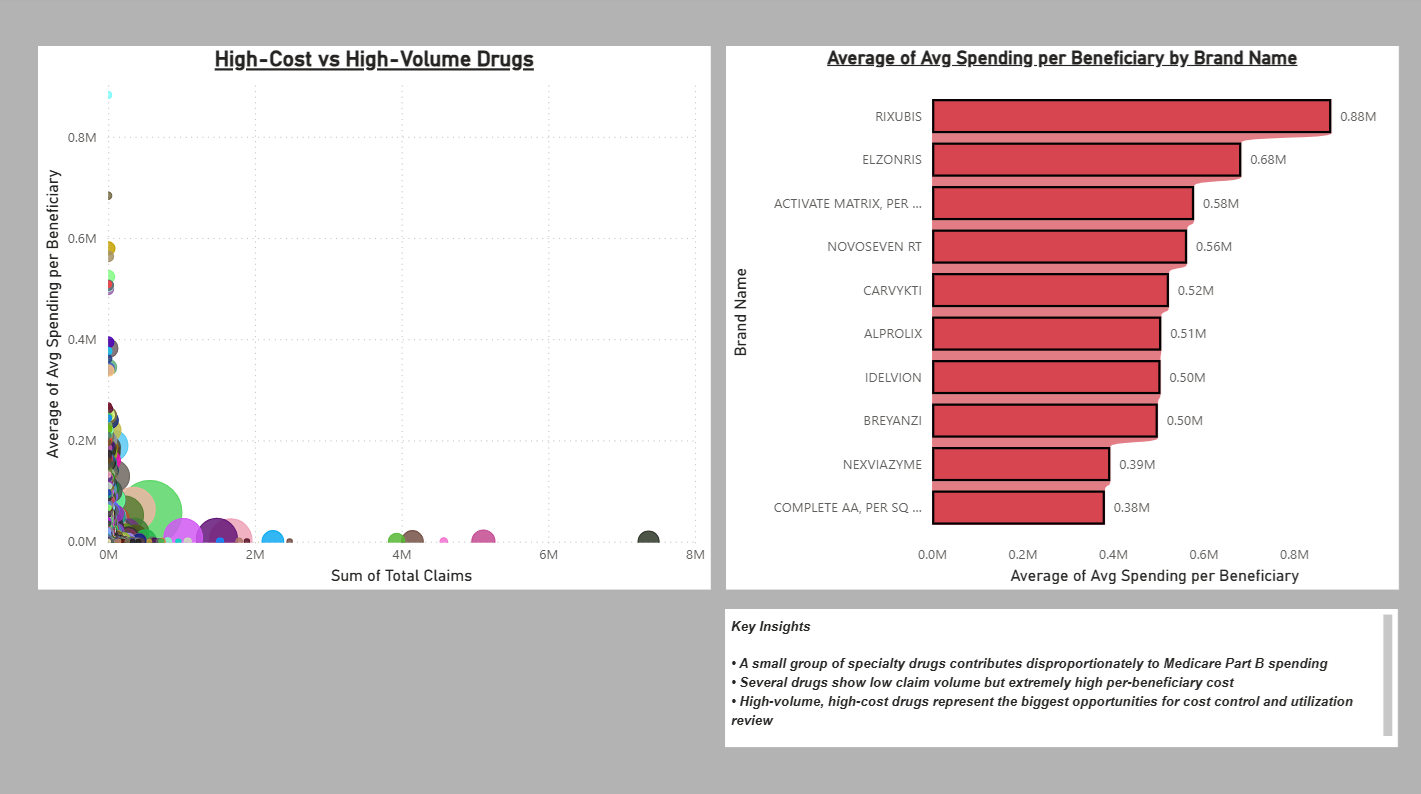

This screenshot's page, from the dashboard's own definition file:
{"tool":"powerbi","page":{"name":"Cost Drivers & Insights","canvas":[1280,720],"ordinal":1},"visuals":[{"type":"scatterChart","title":"High-Cost vs High-Volume Drugs","fields":{"X":["Sum(Medicare_Part_B.Total Claims)"],"Y":["Avg(Medicare_Part_B.Avg Spending per Beneficiary)"],"Size":["Sum(Medicare_Part_B.Total Spending)"],"Series":["Medicare_Part_B.Brand Name"]},"box":[36.2,45.3,603.8,487.9],"z":0},{"type":"barChart","fields":{"Category":["Medicare_Part_B.Brand Name"],"Y":["Avg(Medicare_Part_B.Avg Spending per Beneficiary)"]},"box":[653.6,45.3,603.8,487.9],"z":1},{"type":"textbox","box":[652.7,550.3,604.2,123.9],"z":2}]}

Visuals, with their boxes in screenshot pixels (x1, y1, x2, y2), scaled from the page's 1280x720 canvas onto the 1421x794 screenshot:
"High-Cost vs High-Volume Drugs" scatterChart: (40, 50, 710, 588)
barChart - Medicare_Part_B.Brand Name x Avg(Medicare_Part_B.Avg Spending per Beneficiary): (726, 50, 1396, 588)
textbox: (725, 607, 1395, 743)
